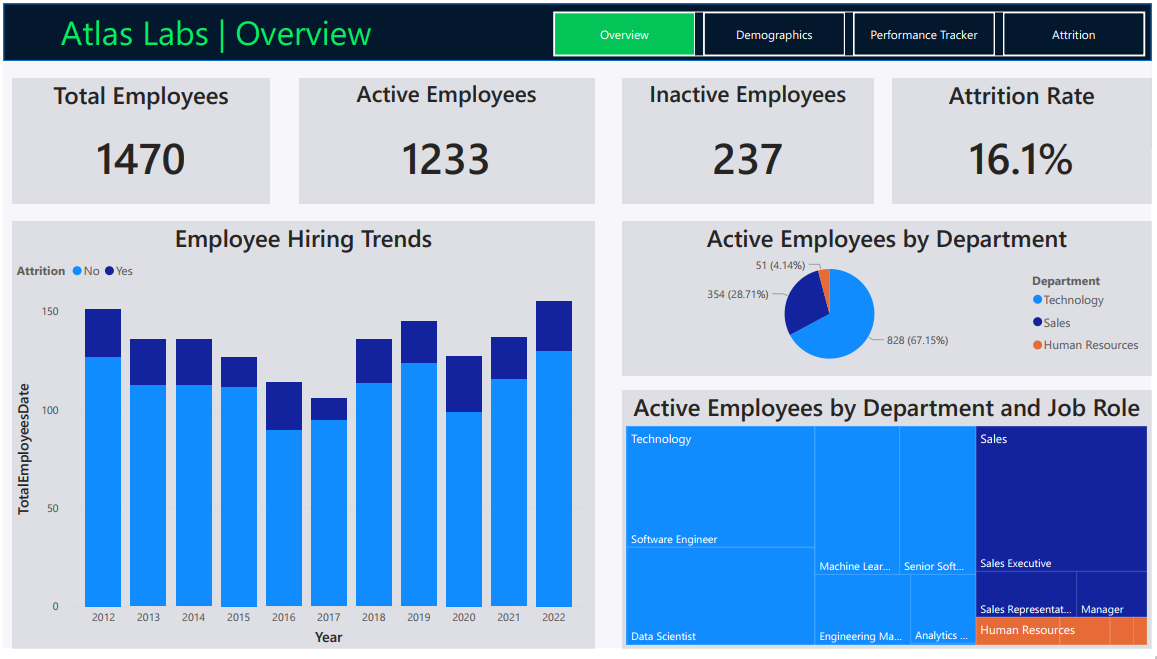

The page's visual inventory and layout, read from the dashboard file:
{"tool":"powerbi","page":{"name":"Overview","canvas":[1280,720],"ordinal":0},"visuals":[{"type":"card","title":"Total Employees","fields":{"Values":["_Measures.TotalEmployees"]},"box":[9.8,83.5,287.2,139.9],"z":0},{"type":"card","title":"Active Employees","fields":{"Values":["_Measures.ActiveEmployees"]},"box":[329,83.5,330.2,139.9],"z":1000},{"type":"card","title":"Inactive Employees","fields":{"Values":["_Measures.InactiveEmployees"]},"box":[689.8,83.5,279.9,139.9],"z":2000},{"type":"card","title":"Attrition Rate","fields":{"Values":["_Measures.% Attrition Rate"]},"box":[990.6,83.5,289.7,139.9],"z":3000},{"type":"columnChart","title":"Employee Hiring Trends","fields":{"Category":["DimDate.Date.Variation.Date Hierarchy.Year","DimDate.Date.Variation.Date Hierarchy.Quarter","DimDate.Date.Variation.Date Hierarchy.Month","DimDate.Date.Variation.Date Hierarchy.Day"],"Y":["_Measures.TotalEmployeesDate"],"Series":["Dim_Employee.Attrition"]},"box":[3.8,242.5,648.8,477.5],"z":4000},{"type":"pieChart","title":"Active Employees by Department","fields":{"Category":["Dim_Employee.Department"],"Y":["_Measures.ActiveEmployees"]},"box":[689.8,243,590.4,171.8],"z":5000},{"type":"treemap","title":"Active Employees by Department and Job Role","fields":{"Group":["Dim_Employee.Department"],"Values":["_Measures.ActiveEmployees"],"Details":["Dim_Employee.JobRole"]},"box":[689.8,432.1,590.4,288.5],"z":6000},{"type":"textbox","box":[25.7,0,590,64.3],"z":7000},{"type":"shape","box":[0,0,1280,64],"z":8000},{"type":"textbox","box":[59.1,1.2,389.7,62.7],"z":9000},{"type":"pageNavigator","box":[612.5,8.6,660.4,50.3],"z":10000}]}

Visuals, with their boxes in screenshot pixels (x1, y1, x2, y2), scaled from the page's 1280x720 canvas onto the 1157x659 screenshot:
"Total Employees" card: box(9, 76, 268, 204)
"Active Employees" card: box(297, 76, 596, 204)
"Inactive Employees" card: box(624, 76, 877, 204)
"Attrition Rate" card: box(895, 76, 1156, 204)
"Employee Hiring Trends" columnChart: box(3, 222, 590, 658)
"Active Employees by Department" pieChart: box(624, 222, 1156, 380)
"Active Employees by Department and Job Role" treemap: box(624, 395, 1156, 658)
textbox: box(23, 0, 557, 59)
shape: box(0, 0, 1156, 59)
textbox: box(53, 1, 406, 58)
pageNavigator: box(554, 8, 1151, 54)
